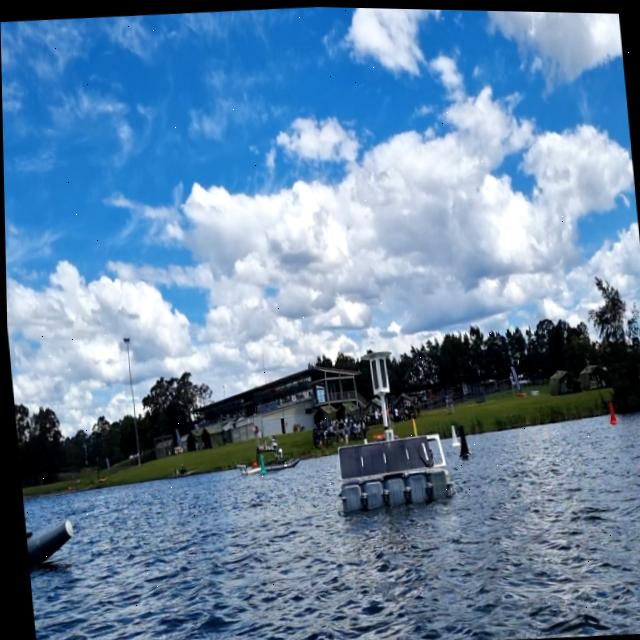led: (376, 355, 386, 388), (369, 357, 378, 387)
